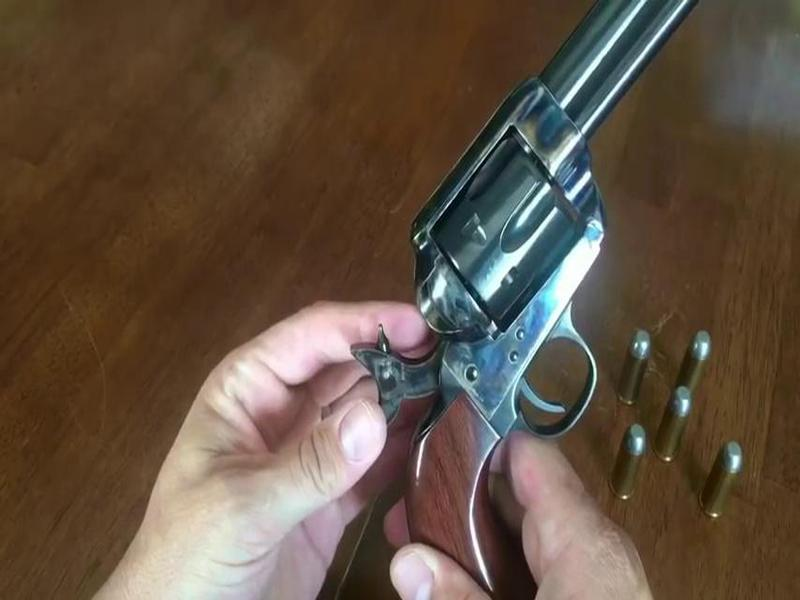Revolver: (371, 4, 646, 485)
